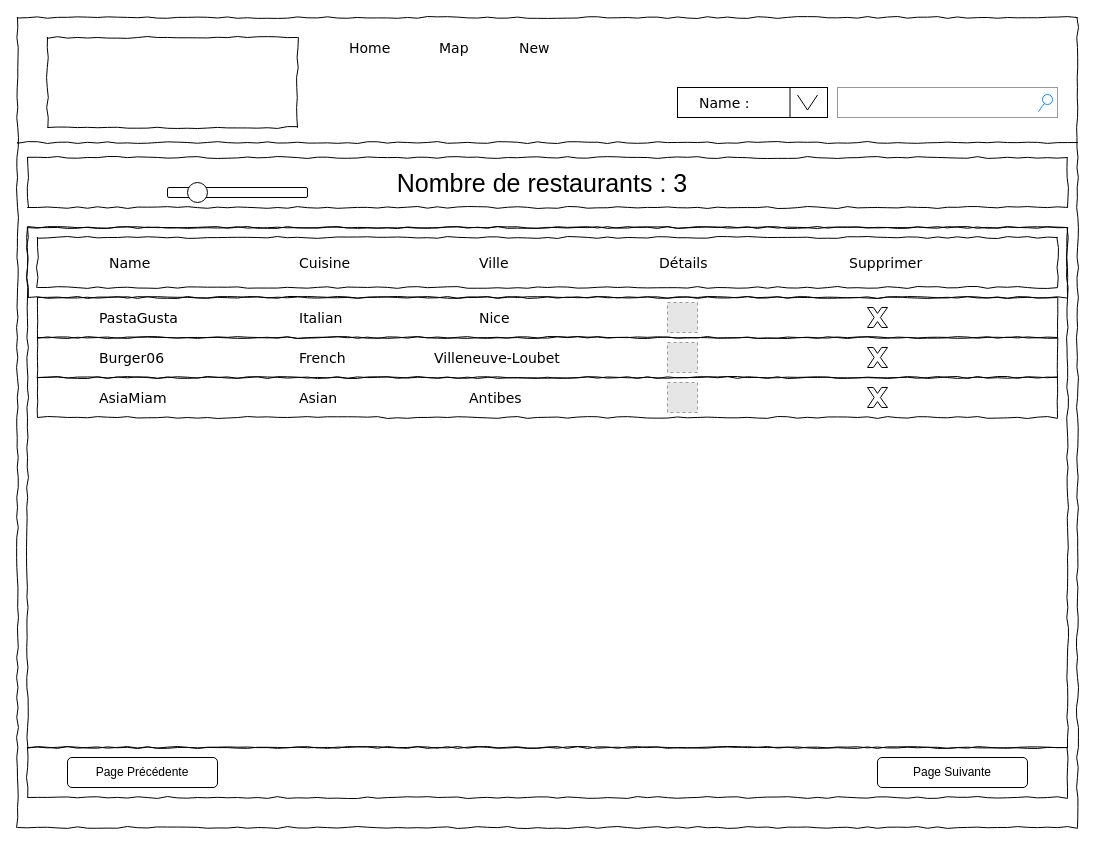
Image size: 1095x845. Some labels were removed from this diagram. Grey dashed boxes stand in for pictures. Here are the shapes that lost their labels. From the top down, the box of each, then its label:
(46, 36, 298, 128): LOGO MIAGE
(836, 86, 1058, 118): Search
